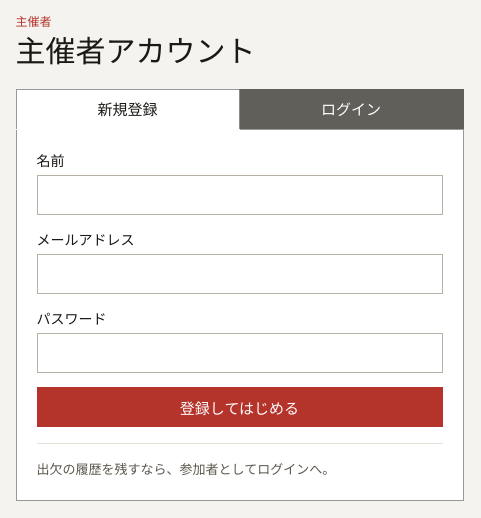
Test: 登録の成功 › 登録のフォームのまま、確認メールの案内と再送を出す
Step 1. Type "山田 太郎" into the field labelled "名前" → (240, 195), box [36,175,442,215]
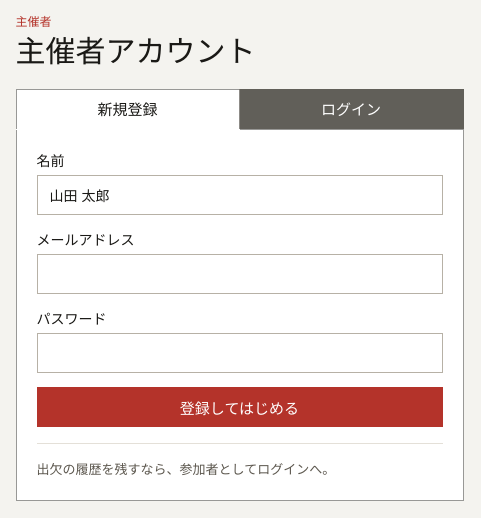
Step 2. Type "taro@example.com" into the field labelled "メールアドレス" → (240, 274), box [36,254,442,294]
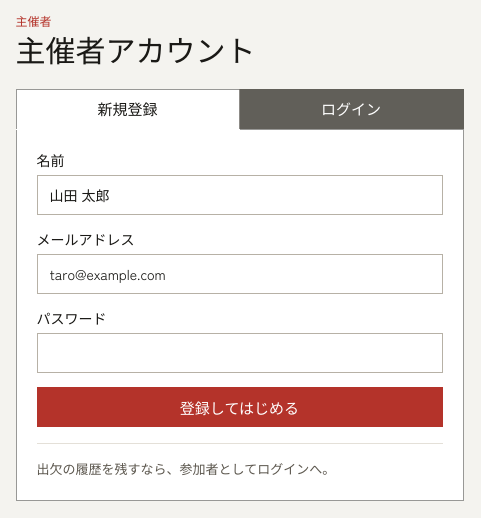
Step 3. Type "password123" into the password field labelled "パスワード" → (240, 353), box [36,333,442,373]
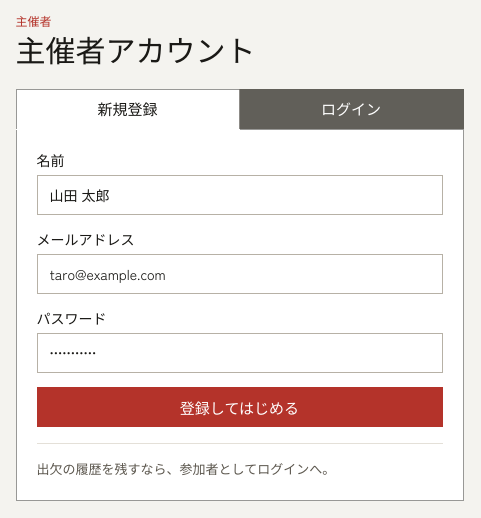
Step 4. Click the button "登録してはじめる" → (240, 407), box [36,387,442,427]
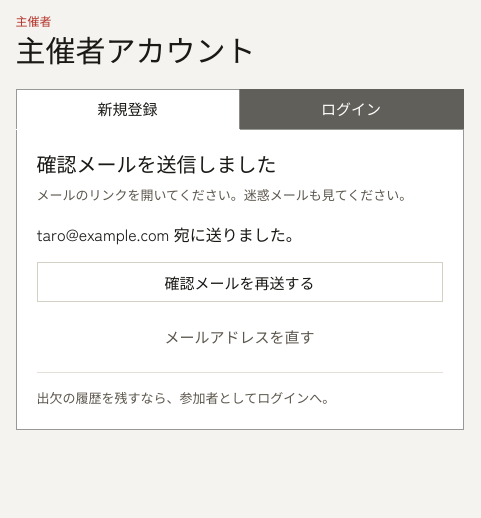
Expected: the heading "確認メールを送信しました" is shown, [36,149,276,178]
Expected: the text "taro@example.com 宛に送りました。" is shown, [36,222,302,246]
Expected: the button "確認メールを再送する" is shown, [36,262,442,302]
